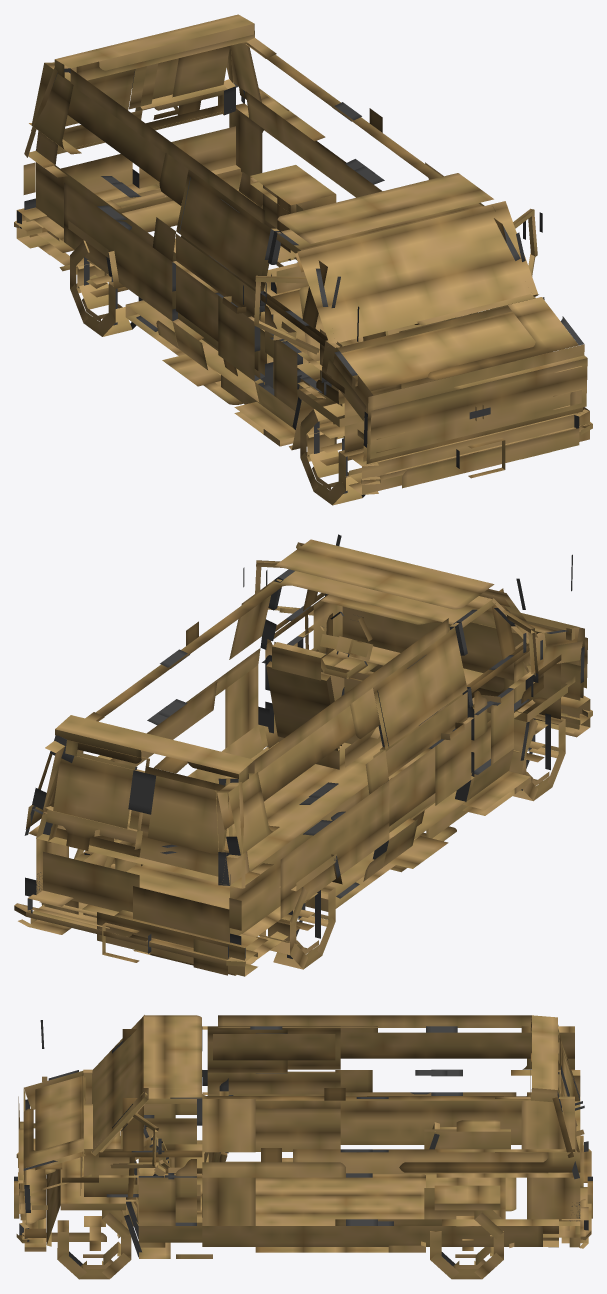
Rendered from van.obj.
3 views of the same model, one above another, from view 1: azimuth 30°, elevation 25°; view 2: azimuth 150°, elevation 25°; view 3: azimuth 270°, elevation 25° (orthographic). The views are drawn at different scales.
Visible parts, largest first — view 1: body, w1, w2; view 2: body, w2, w1, rul; view 3: body, w3, w4.
Part boxes in pixels (left/top/right/bottom): body: left=14, top=14, right=592, bottom=494; w1: left=300, top=403, right=365, bottom=505; w2: left=70, top=240, right=142, bottom=336; body: left=14, top=534, right=592, bottom=976; w2: left=259, top=885, right=335, bottom=969; w1: left=513, top=713, right=565, bottom=801; rul: left=315, top=611, right=372, bottom=679; body: left=14, top=1015, right=592, bottom=1258; w3: left=57, top=1210, right=131, bottom=1279; w4: left=430, top=1210, right=503, bottom=1279.
Size of the model in its own units: 3.28 by 2.44 by 6.8.
